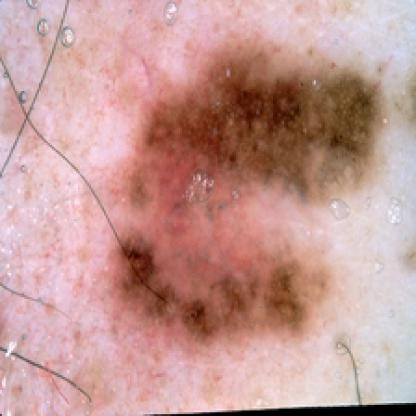malignant: (89, 41, 379, 329)
